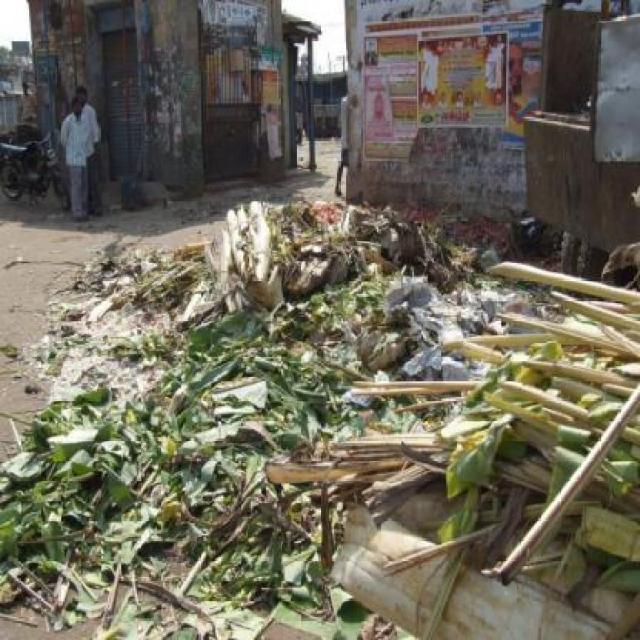garbage: (65, 203, 639, 639), (0, 410, 97, 639)
